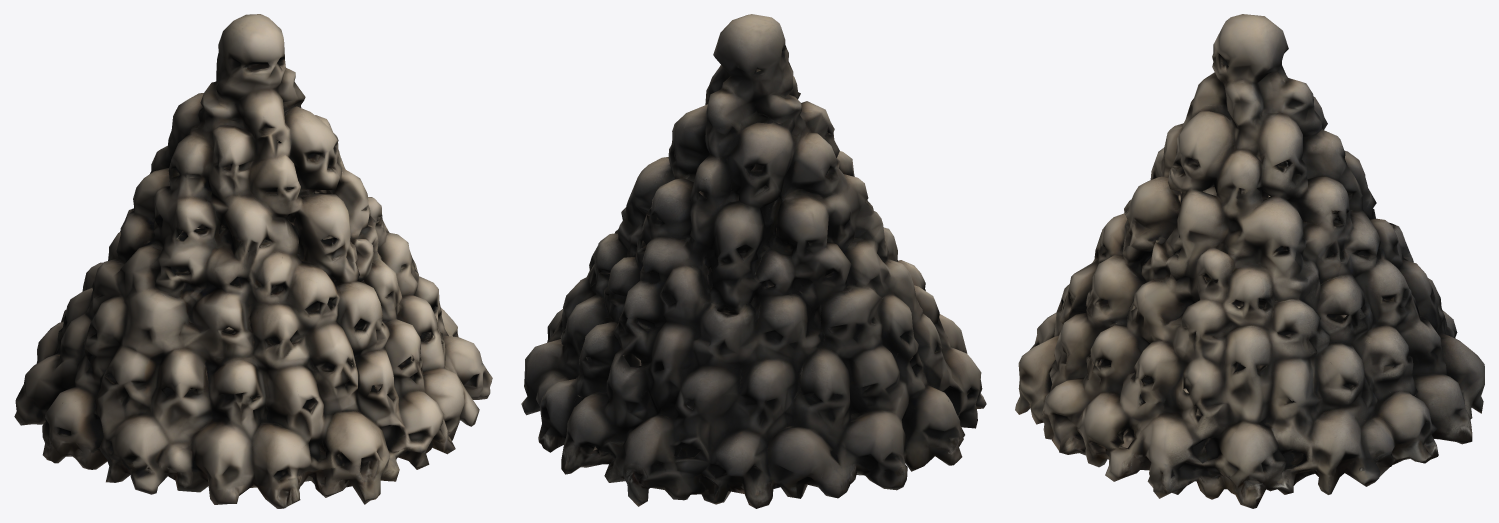
Rendered from skull_pyramid.glb.
The picture shows the model from 3 angles, left to right: view 1: azimuth 30°, elevation 25°; view 2: azimuth 150°, elevation 25°; view 3: azimuth 270°, elevation 25°; orthographic projection.
Bounding box in the file's own units: 2 × 1.87 × 2.
Materials: 1 (1 with a texture image).
